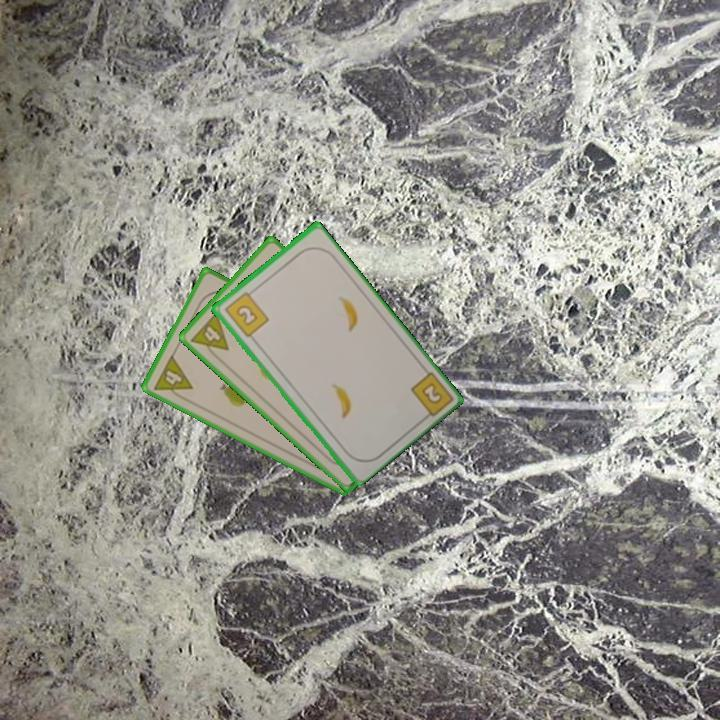2b: (221, 286, 271, 340), (406, 368, 454, 424)
4p: (187, 308, 232, 363), (150, 351, 195, 404)
